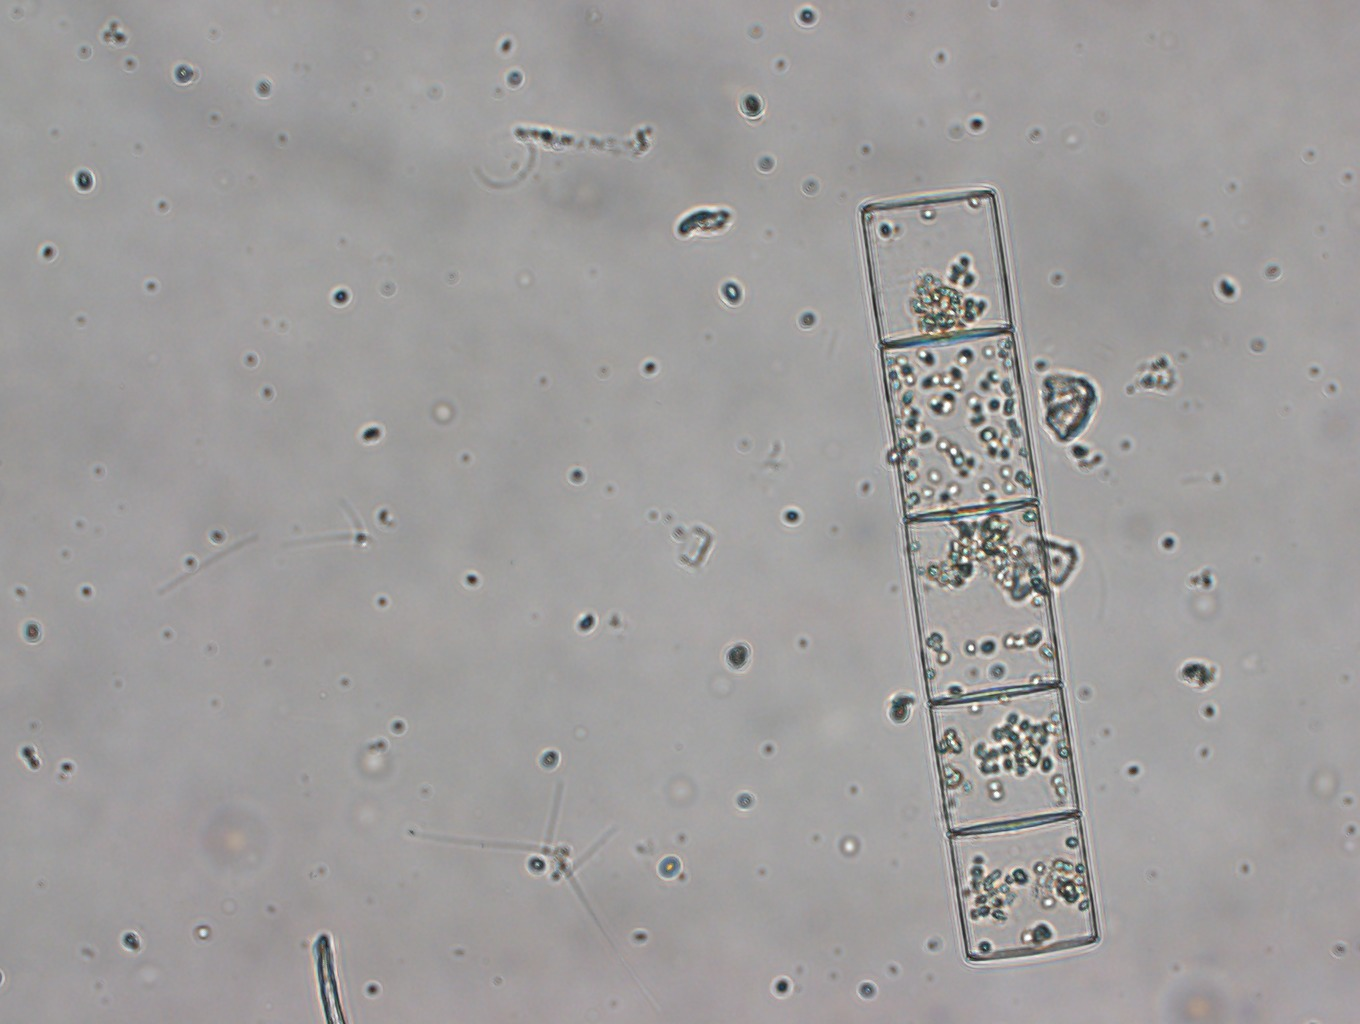guinardia flaccida: (857, 185, 1101, 965)
